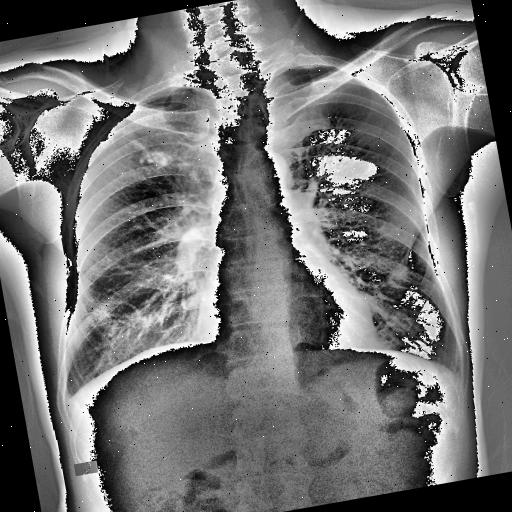10- Pleural effusion: (60, 392, 75, 407)
11- Pleural thickening: (60, 392, 75, 407)
13- Pulmonary fibrosis: (119, 126, 175, 175), (114, 130, 171, 172), (128, 132, 172, 172)
2- Calcification: (119, 126, 175, 175)
9- Other lesion: (114, 130, 171, 172)
